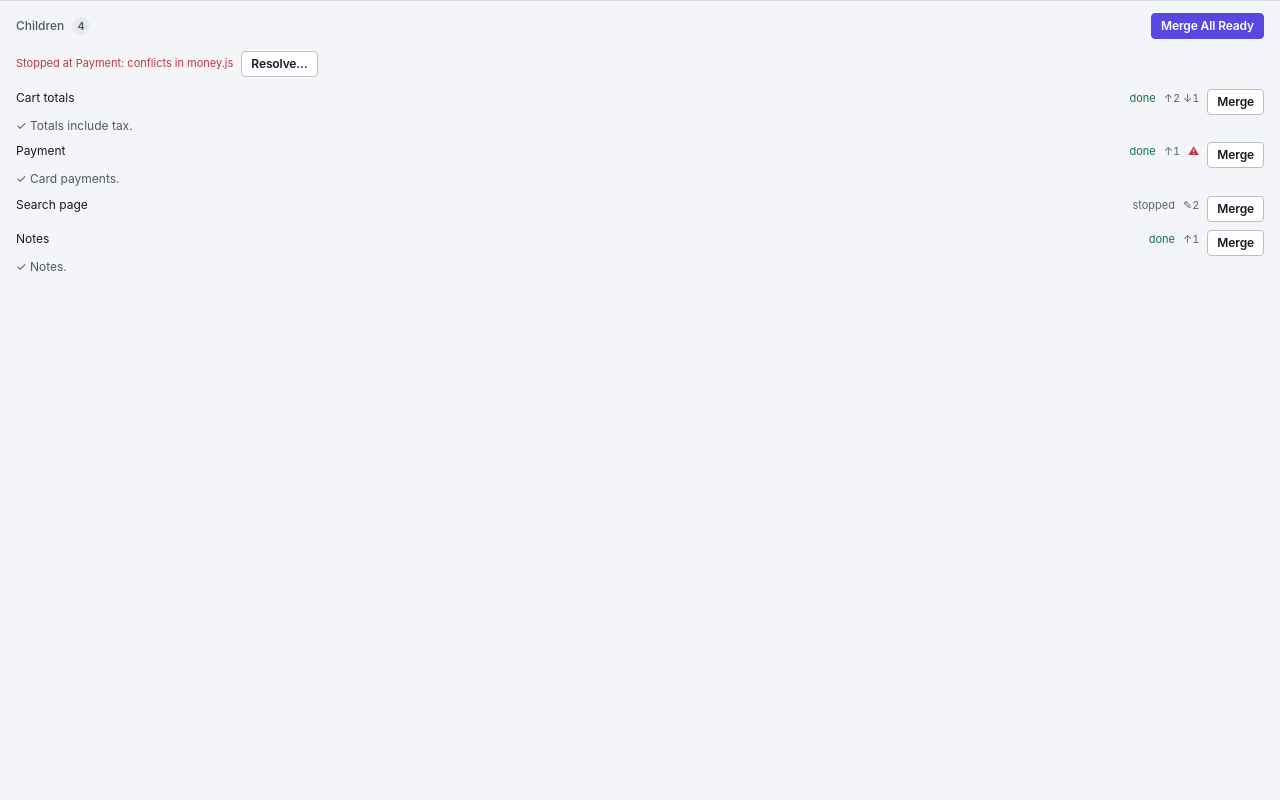
the Children section › Resolve… lands in the conflict flow: Update from Parent, not Merge
Step 1. Click the button "Resolve…" → x=279, y=64, box [241,51,318,77]
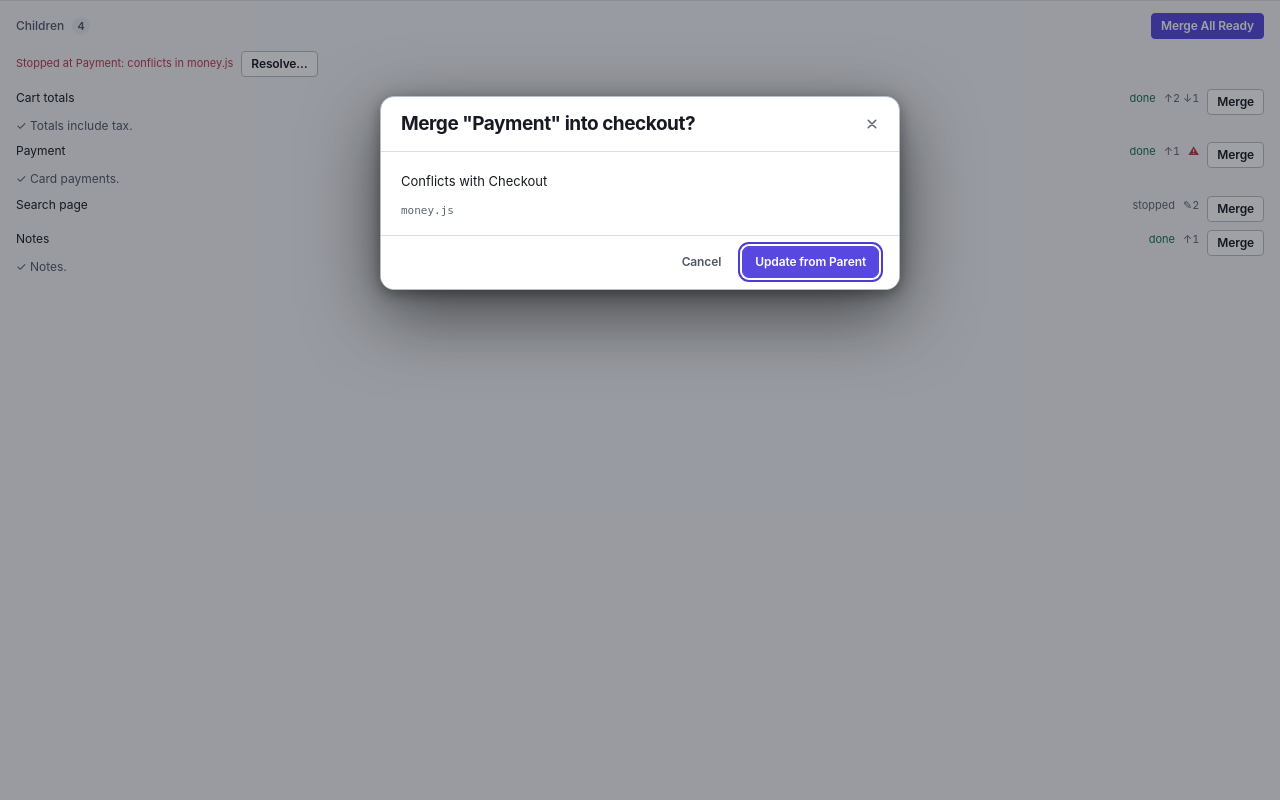
Now the button "Update from Parent" is shown, box [742,246,879,278]
